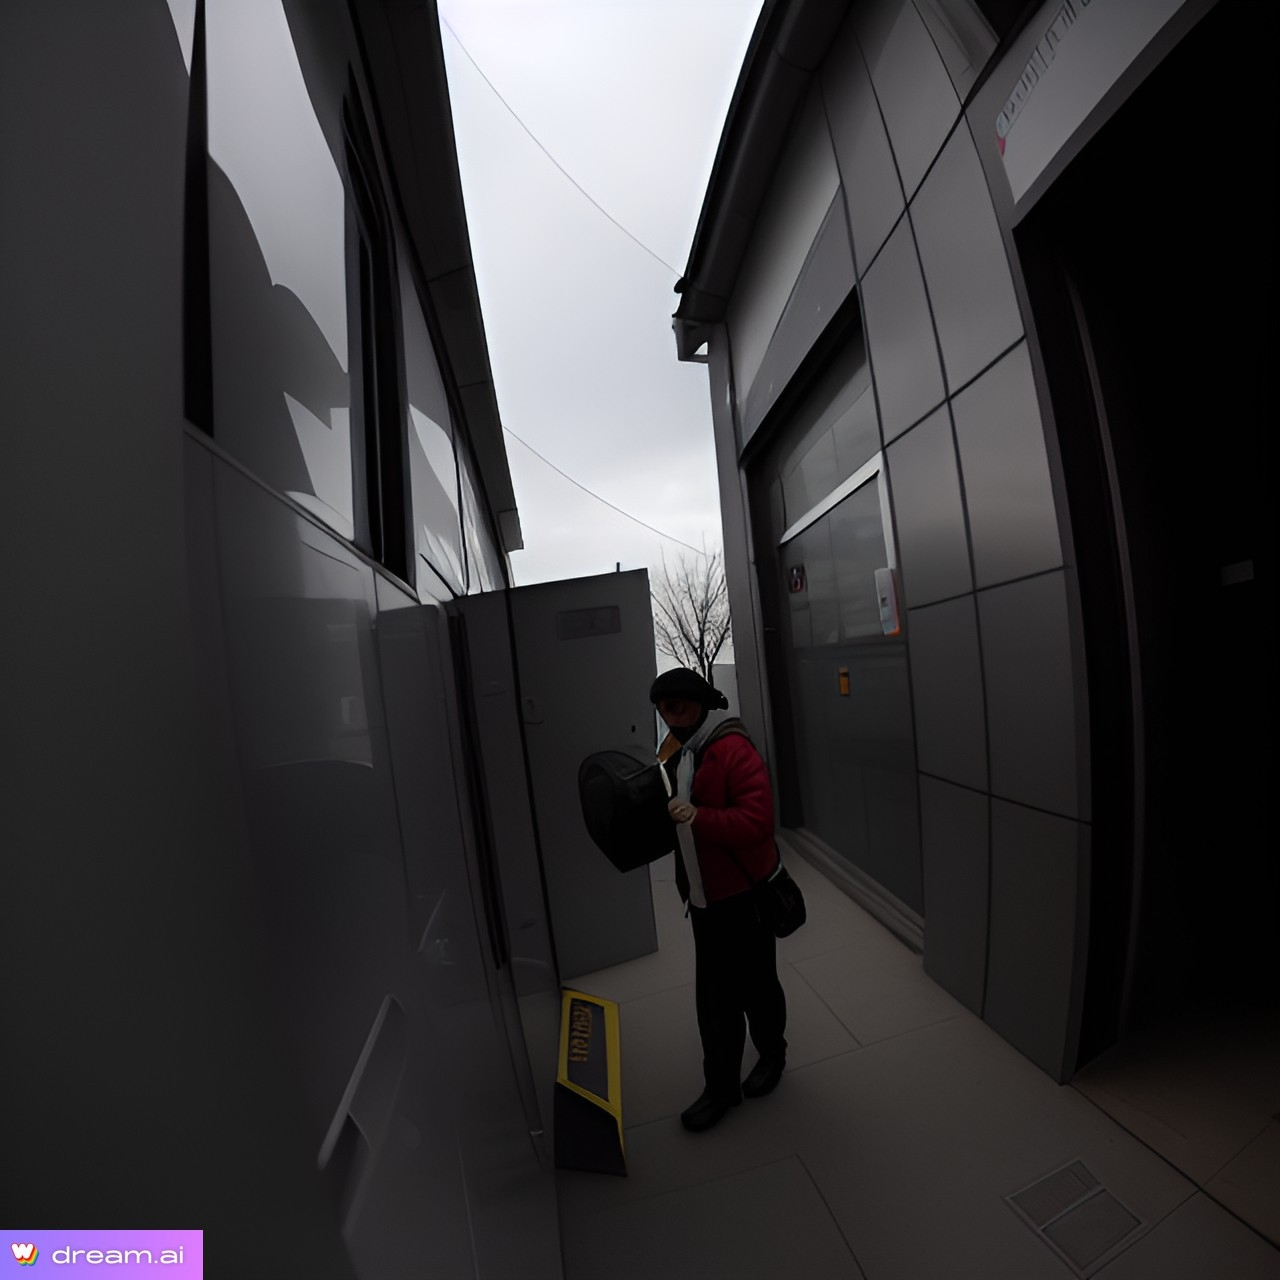door_back: (496, 561, 676, 985)
